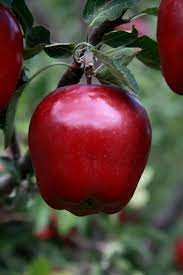apple: (31, 84, 154, 218)
